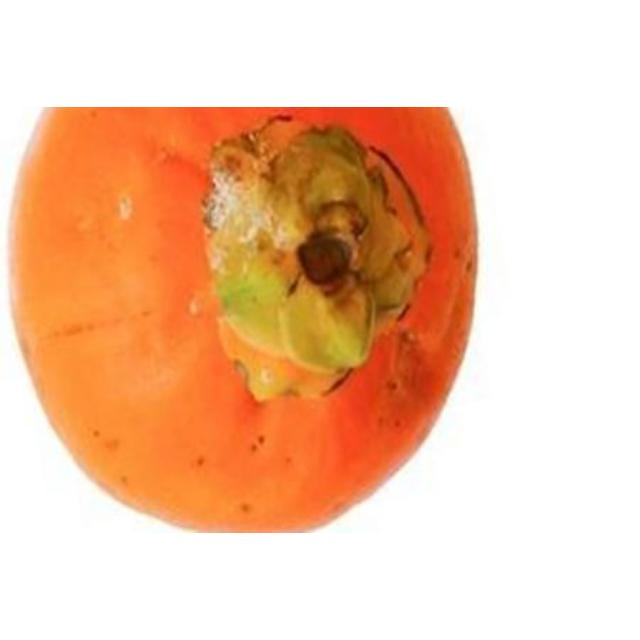good: (20, 107, 475, 532)
